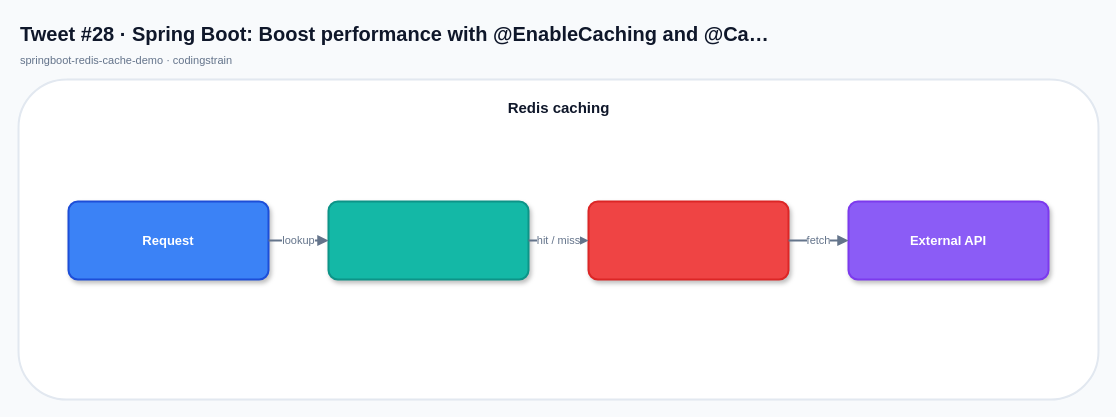
The diagram is 1116 pixels wide and 417 high, and some of its shapes have lost their labels. The shapes that lost their labels are listed below. From the top down, each one's centre as x and y in pixels, then its label:
[429,241]: @Cacheable
[689,241]: Redis
